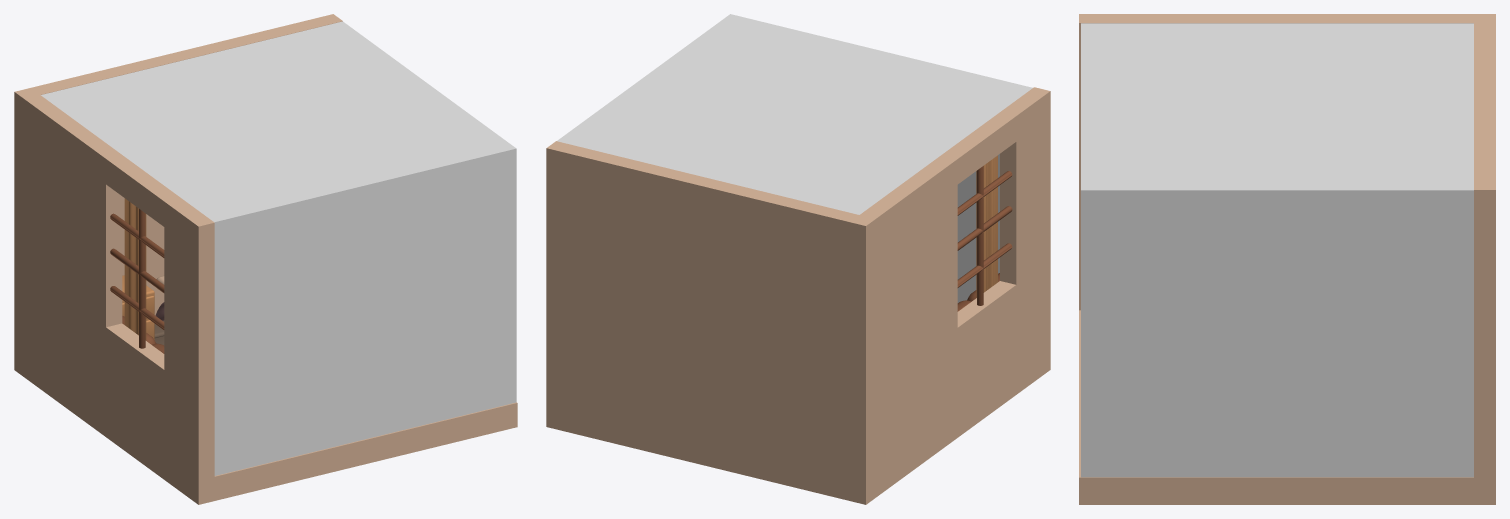
The model's file is Living Room.fbx.
3 renders of one model, left to right at view 1: azimuth 30°, elevation 25°; view 2: azimuth 150°, elevation 25°; view 3: azimuth 270°, elevation 25°, orthographic. The views are drawn at different scales.
Parts seen in each view (by area): view 1: Cube.018, Cube.012, window; view 2: Cube.012, Cube.018, window; view 3: Cube.018, Cube.012.
Part boxes in pixels (x1=…): Cube.018: x1=41, y1=21, x2=516, y2=475; Cube.012: x1=14, y1=14, x2=517, y2=504; window: x1=110, y1=198, x2=164, y2=348; Cube.012: x1=546, y1=87, x2=1050, y2=504; Cube.018: x1=557, y1=14, x2=1032, y2=302; window: x1=957, y1=155, x2=1012, y2=305; Cube.018: x1=1081, y1=23, x2=1473, y2=477; Cube.012: x1=1079, y1=14, x2=1495, y2=504.
Size of the model in its own units: 163 by 136 by 163.
